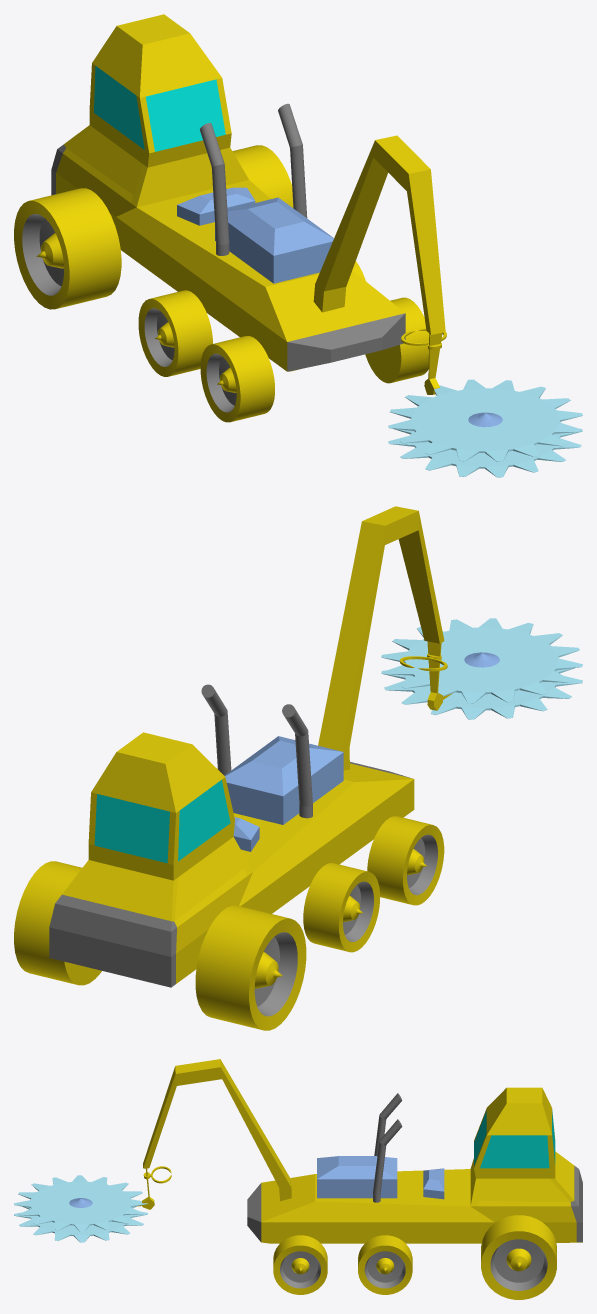
The model's file is abatteuse.fbx.
3 renders of one model, top to bottom at view 1: azimuth 30°, elevation 25°; view 2: azimuth 150°, elevation 25°; view 3: azimuth 270°, elevation 25°, orthographic. The views are drawn at different scales.
Parts seen in each view (by area): view 1: corps abatteuse, roue, Cylinder.010, Cube.001; view 2: corps abatteuse, roue, Cylinder.010, Cube.001; view 3: corps abatteuse, roue, Cylinder.010, Cube.001.
Boxes of the visible parts, x1,y1,x2,y2 form: corps abatteuse: (51,14,405,371); roue: (14,145,429,422); Cylinder.010: (388,379,582,477); Cube.001: (313,135,446,394); corps abatteuse: (49,684,414,987); roue: (14,816,444,1030); Cylinder.010: (381,618,582,719); Cube.001: (318,506,452,770); corps abatteuse: (247,1087,582,1243); roue: (273,1215,556,1299); Cylinder.010: (14,1175,147,1242); Cube.001: (135,1059,291,1209).
Size of the model in its own units: 494 by 591 by 1494.
